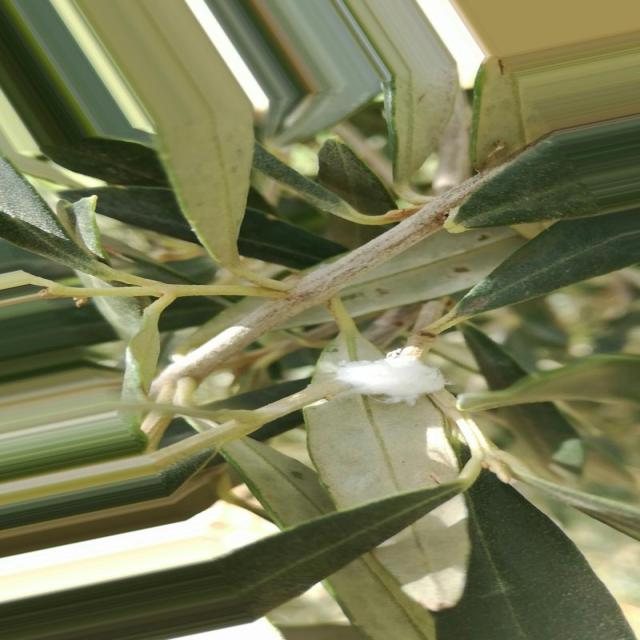Psyllid: (318, 347, 446, 405)
